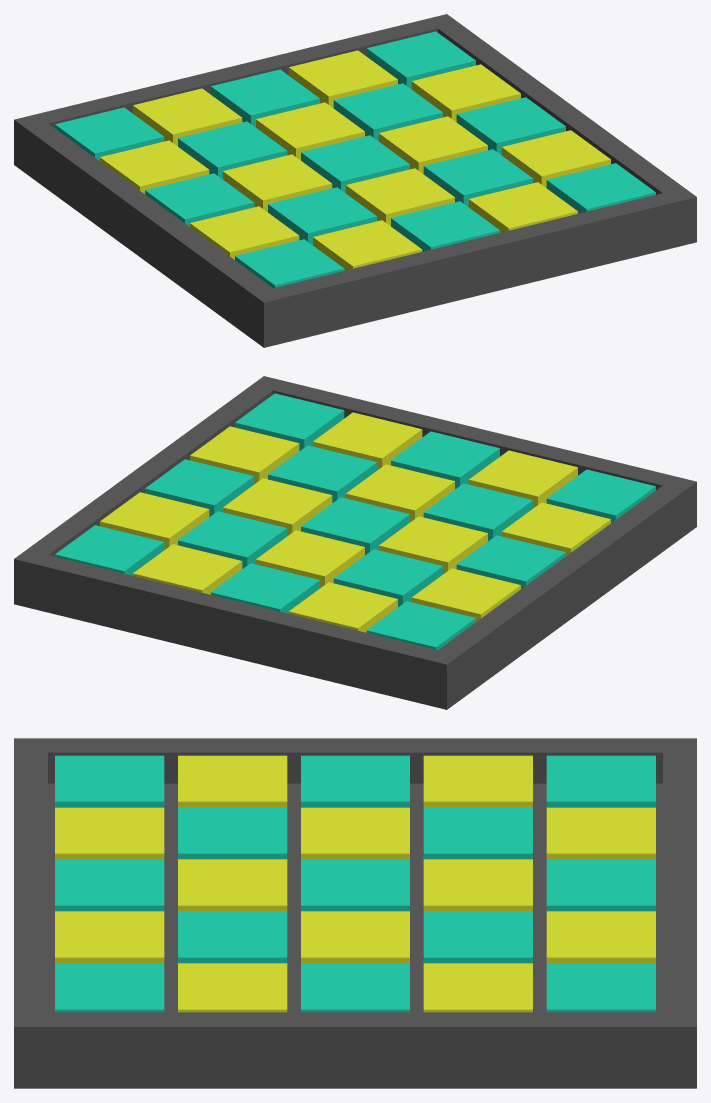
The model's file is dot.glb.
3 renders of one model, top to bottom at view 1: azimuth 30°, elevation 25°; view 2: azimuth 150°, elevation 25°; view 3: azimuth 270°, elevation 25°, orthographic. The views are drawn at different scales.
Parts seen in each view (by area): view 1: dot; view 2: dot; view 3: dot.
Boxes of the visible parts, x1=… form: dot: x1=14, y1=14, x2=696, y2=347; dot: x1=14, y1=376, x2=696, y2=709; dot: x1=14, y1=738, x2=696, y2=1088.
Size of the model in its own units: 2 by 0.2 by 2.
